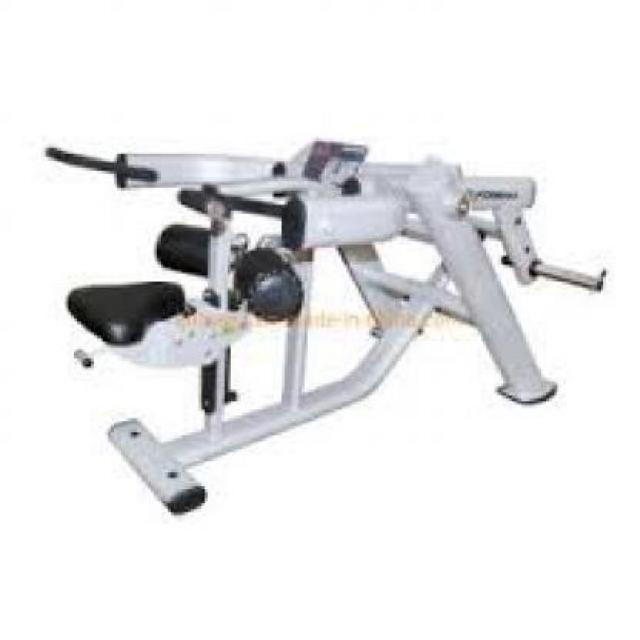seated dip machine: (34, 103, 615, 528)
